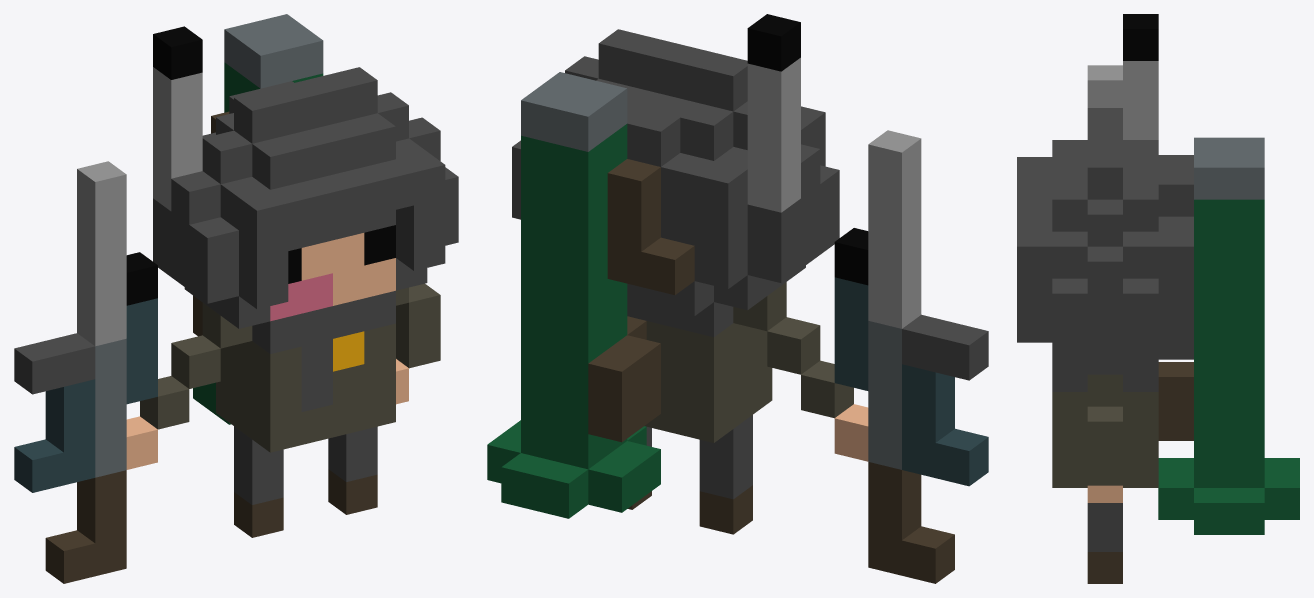
Rendered from infantry_modern.obj.
The picture shows the model from 3 angles, left to right: view 1: azimuth 30°, elevation 25°; view 2: azimuth 150°, elevation 25°; view 3: azimuth 270°, elevation 25°; orthographic projection. The views are drawn at different scales.
Size of the model in its own units: 1.3 by 1.5 by 0.8.
Materials: 1 (1 with a texture image).
